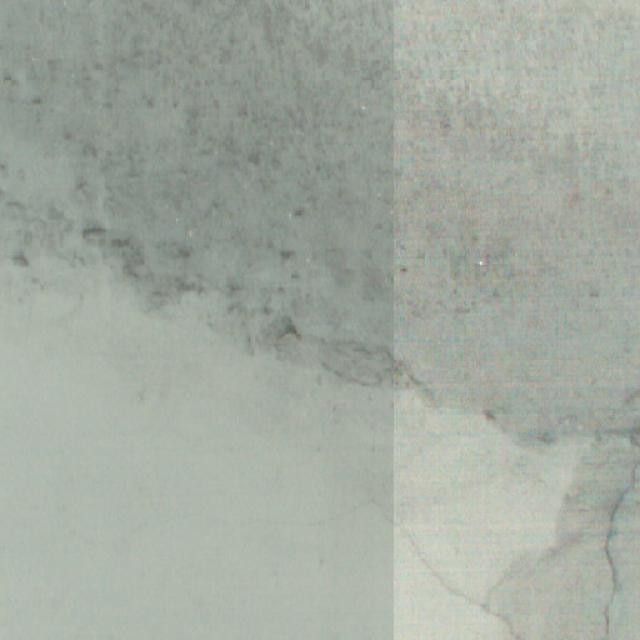Network: (12, 198, 639, 640)
